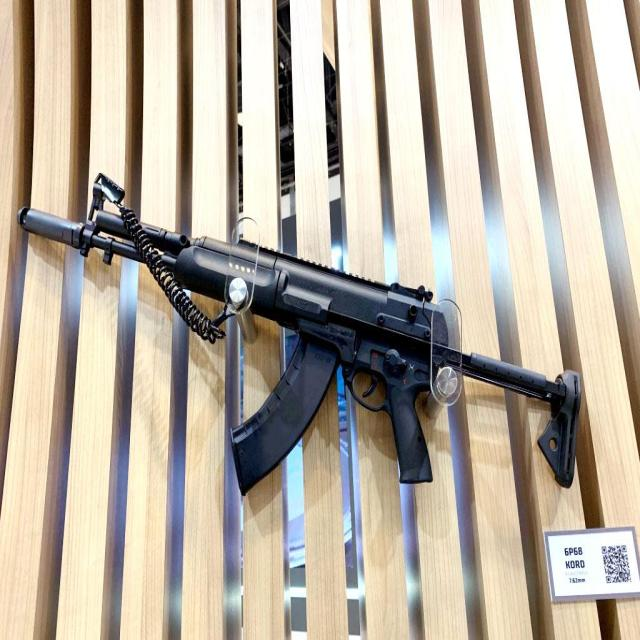weapon: (14, 165, 586, 511)
